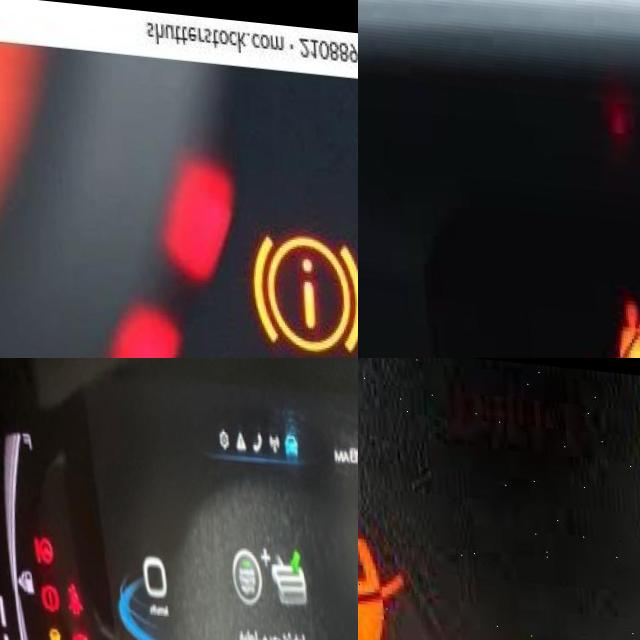Seat Belt: (358, 524, 410, 640), (601, 294, 640, 358)
